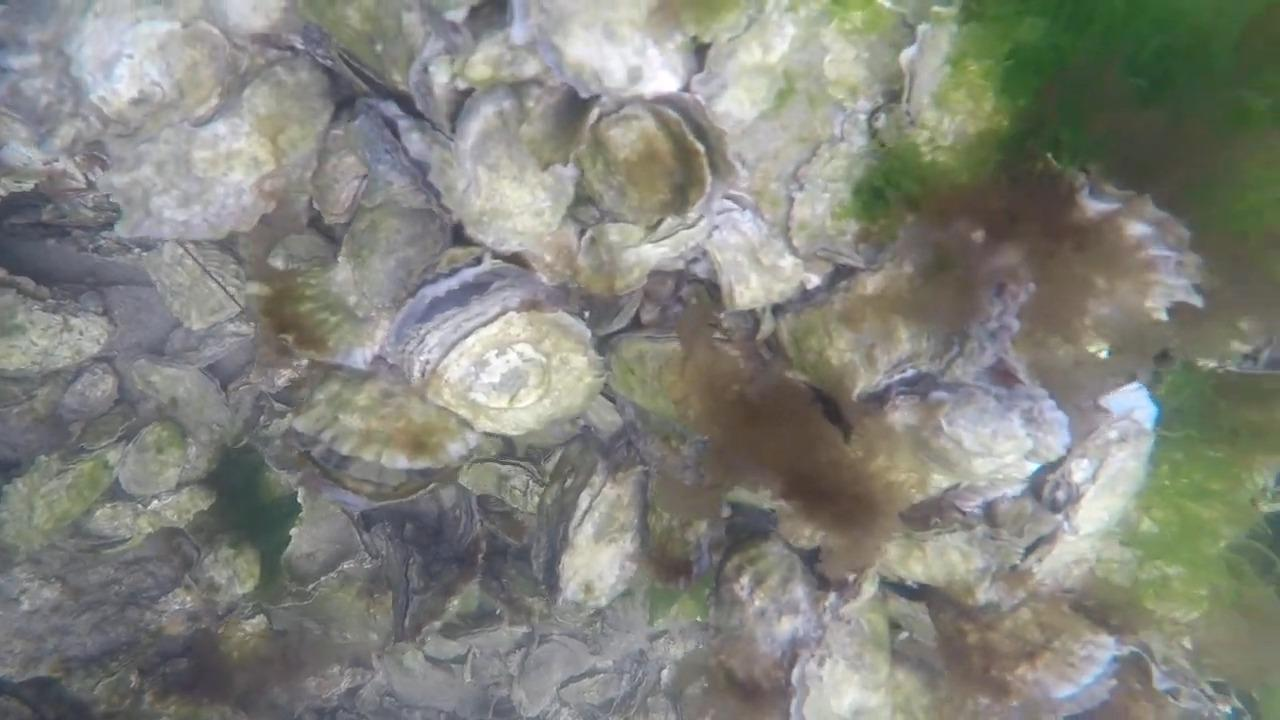Oyster: (87, 96, 298, 244), (856, 373, 1072, 515), (431, 82, 591, 262), (1025, 399, 1165, 569), (60, 5, 232, 134), (786, 122, 913, 277), (570, 98, 716, 232), (778, 287, 927, 416), (518, 1, 702, 105), (293, 1, 459, 108), (548, 454, 652, 616), (115, 356, 243, 477), (333, 192, 454, 317), (710, 533, 823, 657), (693, 202, 812, 319), (791, 596, 904, 718), (252, 262, 378, 369), (869, 518, 1027, 602), (230, 56, 335, 175), (602, 328, 718, 435), (2, 446, 121, 548), (571, 216, 701, 303), (2, 296, 121, 382), (0, 372, 99, 474), (503, 630, 613, 719), (278, 490, 376, 588), (140, 241, 244, 331), (636, 477, 717, 587), (376, 640, 491, 717), (412, 569, 515, 650), (306, 124, 382, 228), (656, 636, 749, 719), (450, 23, 555, 92), (114, 473, 223, 539), (116, 421, 209, 496), (104, 523, 205, 592), (189, 538, 261, 606), (458, 460, 544, 515), (483, 554, 555, 613), (57, 361, 122, 424), (587, 281, 648, 335), (885, 600, 942, 652)
